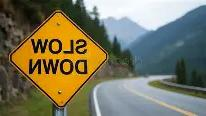Slow: (11, 12, 105, 103)
